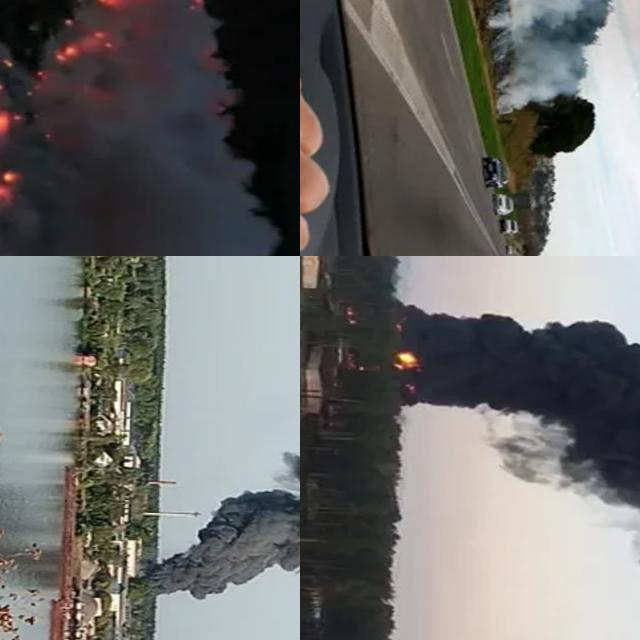smoke: (0, 0, 286, 256), (133, 256, 300, 612), (392, 304, 640, 508), (491, 38, 612, 122), (480, 0, 640, 43)
